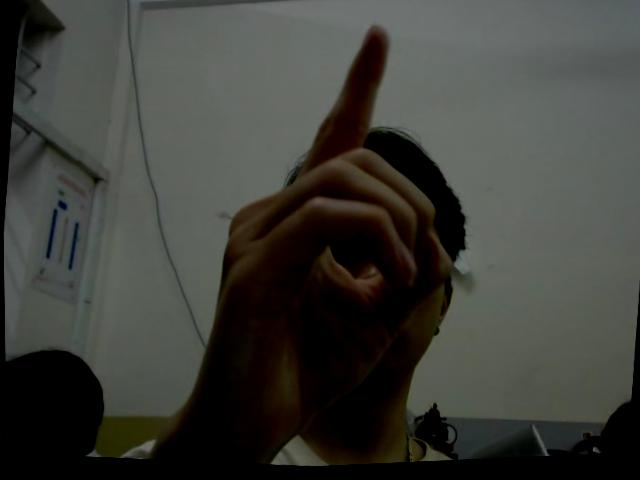D: (183, 9, 476, 471)
